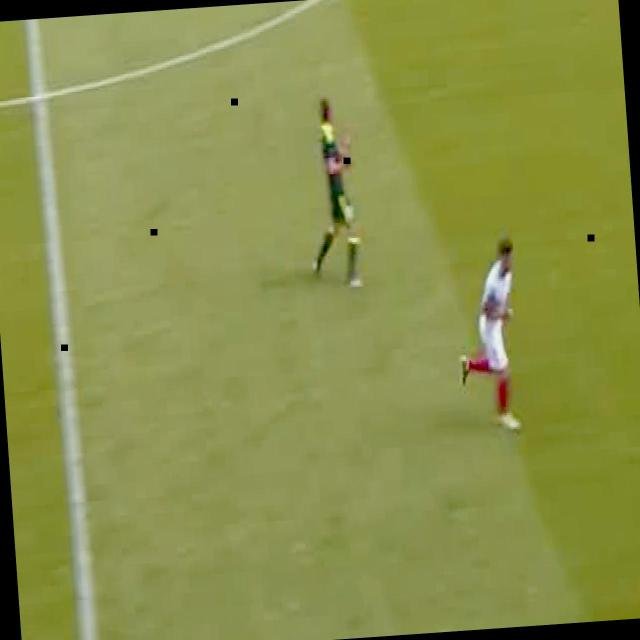player-white: (450, 236, 527, 436), (300, 94, 366, 292)
